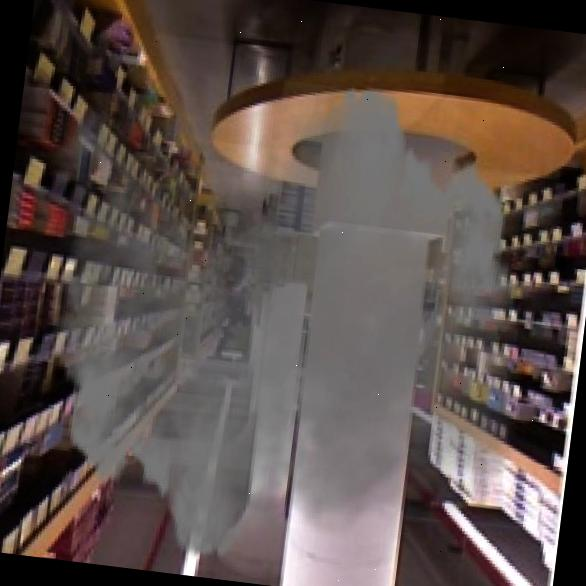smoke: (0, 31, 570, 586)
